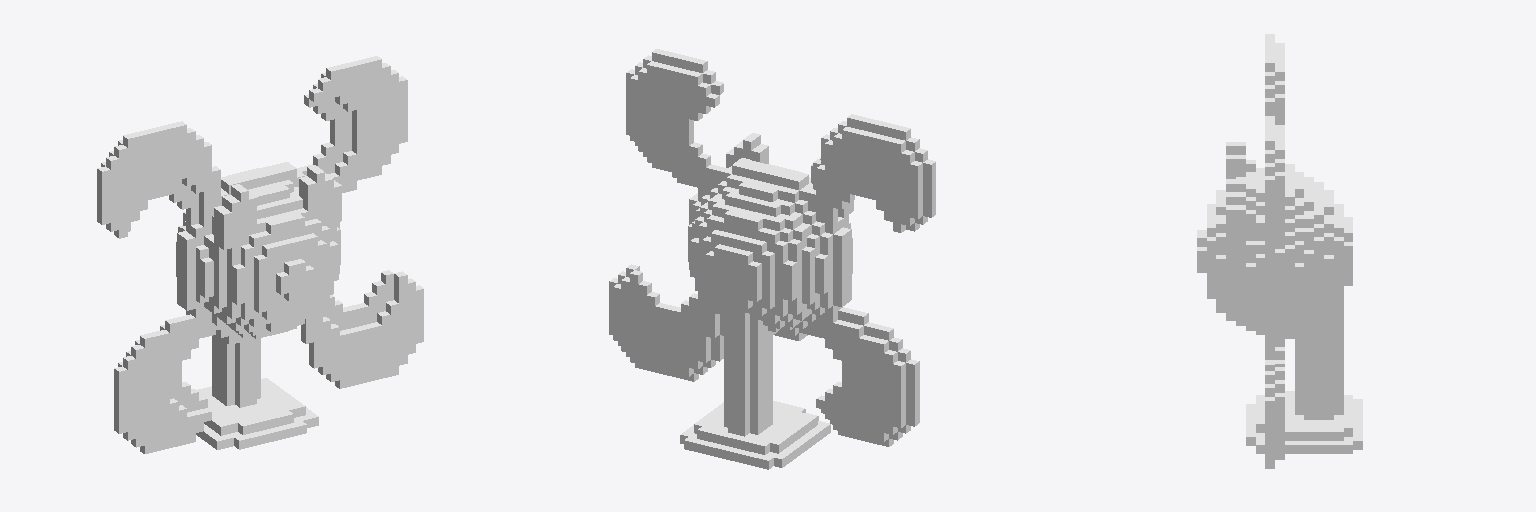
File: Miwwy.obj
The picture shows the model from 3 angles: view 1: azimuth 30°, elevation 25°; view 2: azimuth 150°, elevation 25°; view 3: azimuth 270°, elevation 25°; orthographic projection.
Parts seen in each view (by area): view 1: object 1; view 2: object 1; view 3: object 1.
Boxes of the visible parts, box(x1,y1,x2,y2) form: object 1: box(97, 56, 423, 453); object 1: box(609, 49, 935, 469); object 1: box(1197, 34, 1362, 468).
Size of the model in its own units: 3.8 by 3.9 by 1.7.